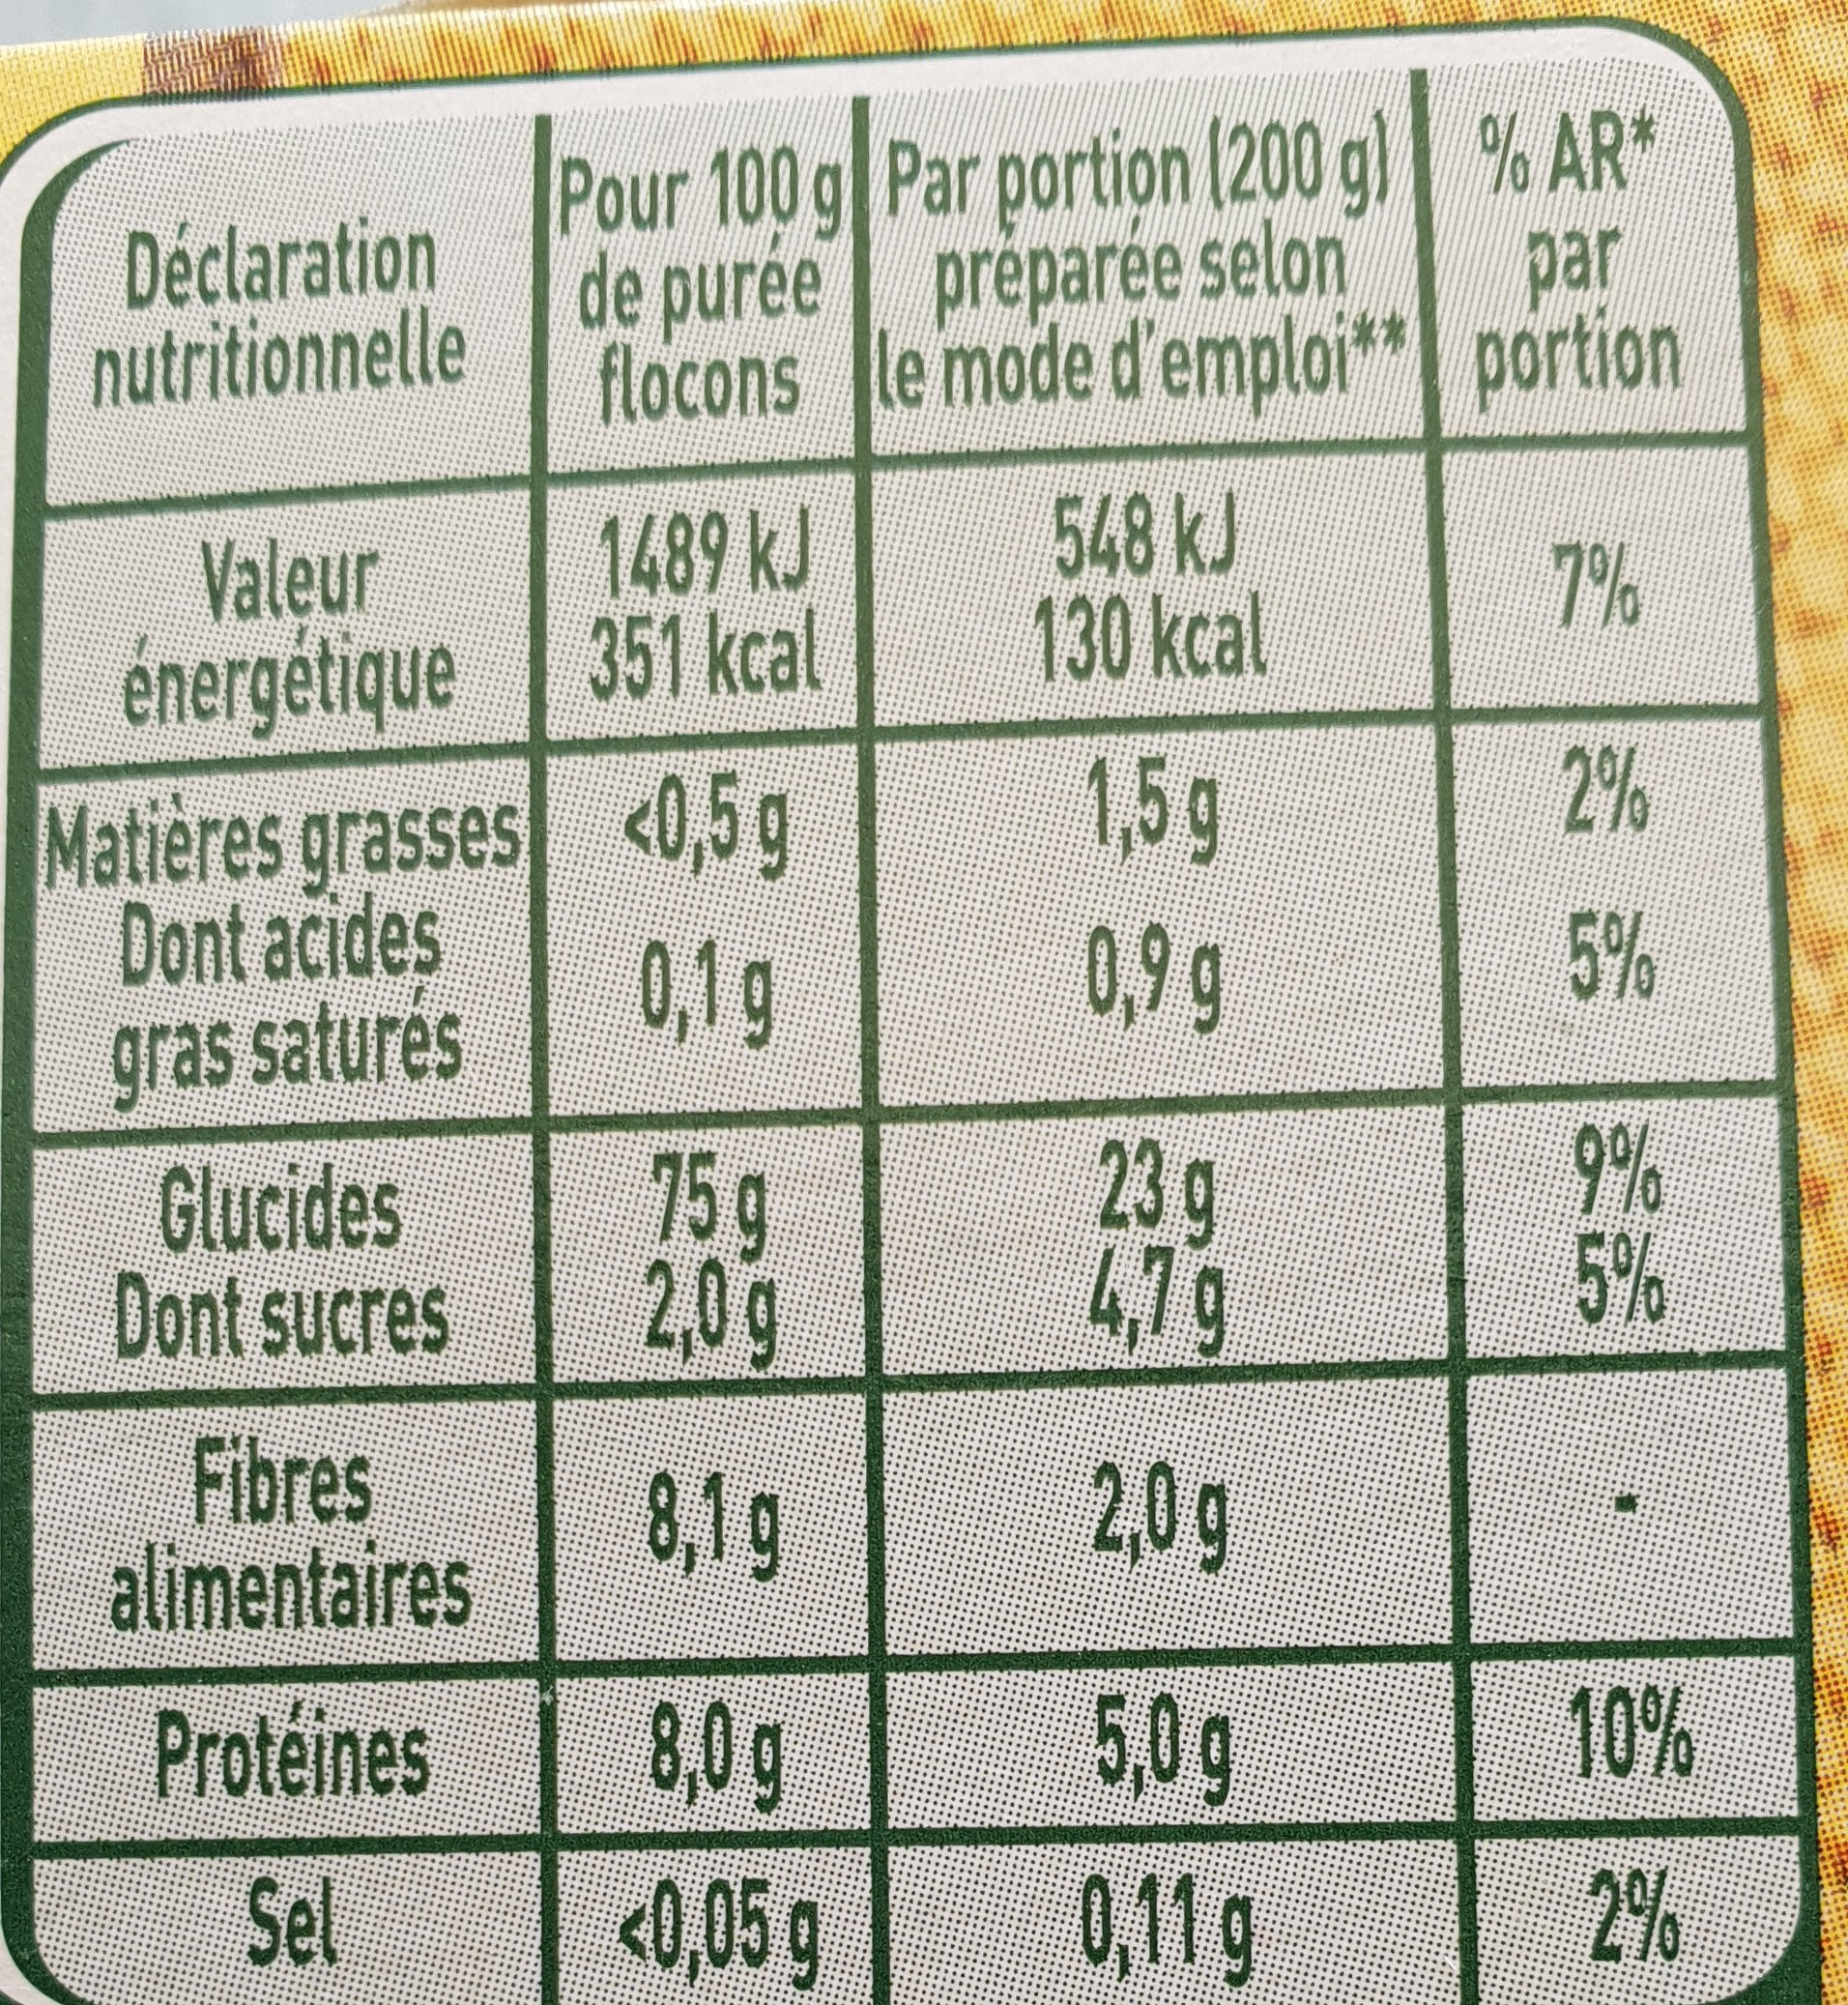column: (891, 110, 1410, 2005), (44, 114, 521, 2005), (561, 105, 847, 1995), (1478, 93, 1687, 1991)
table: (30, 38, 1813, 2002)
